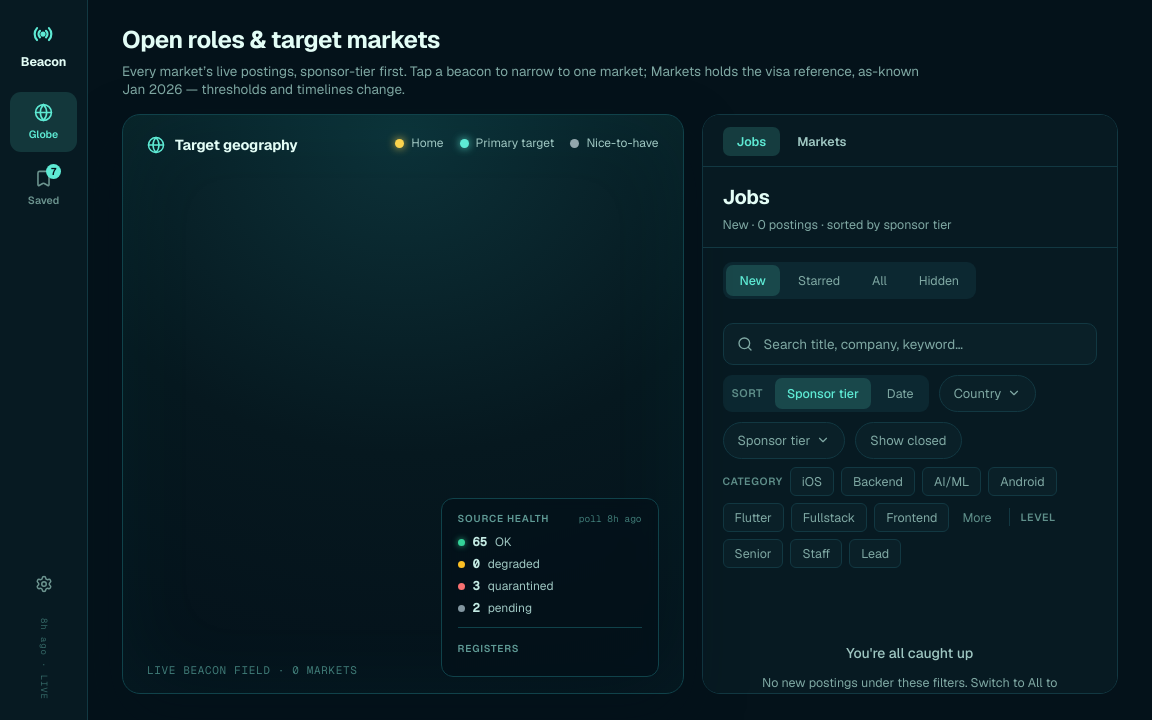
Test case: App › switches to the Saved searches view from the nav
This screenshot has width=1152, height=720.
Click the button "7 Saved": [44, 188] box x1=10 y1=158 x2=77 y2=218
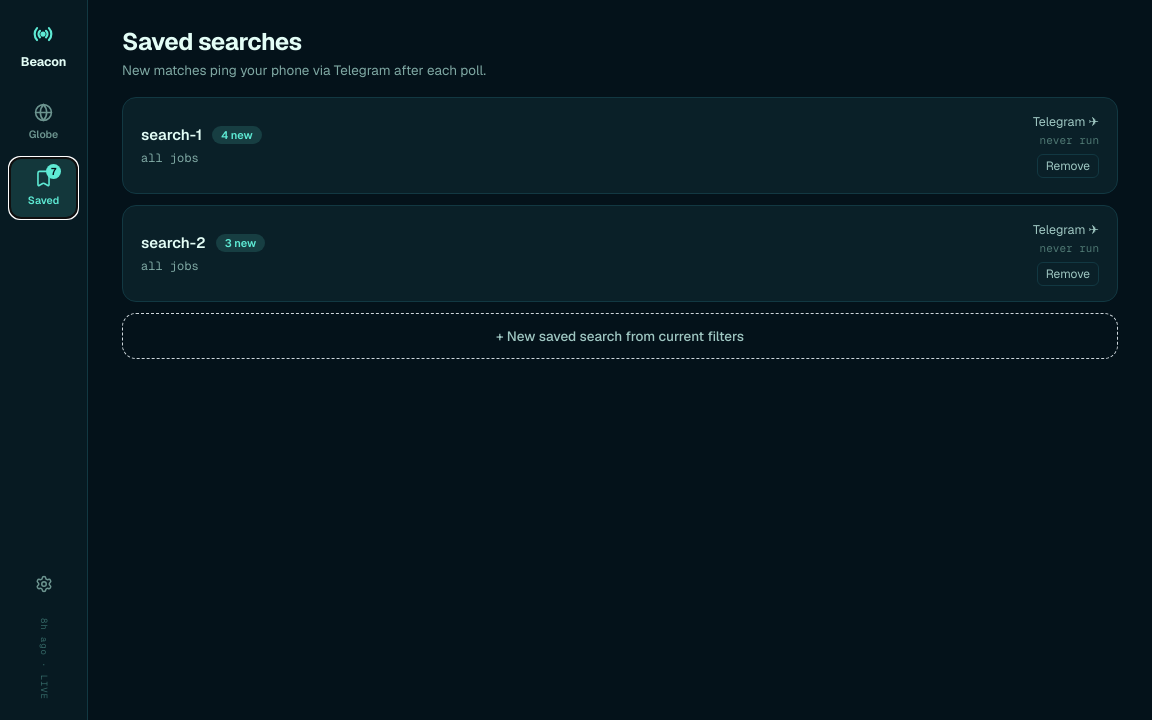
Check: the heading "Saved searches" is shown, box x1=122 y1=26 x2=302 y2=57
